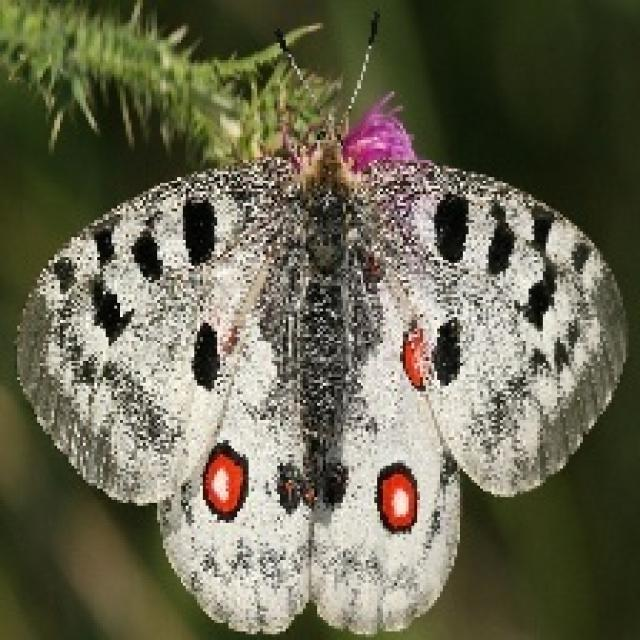butterfly: (11, 6, 628, 637)
